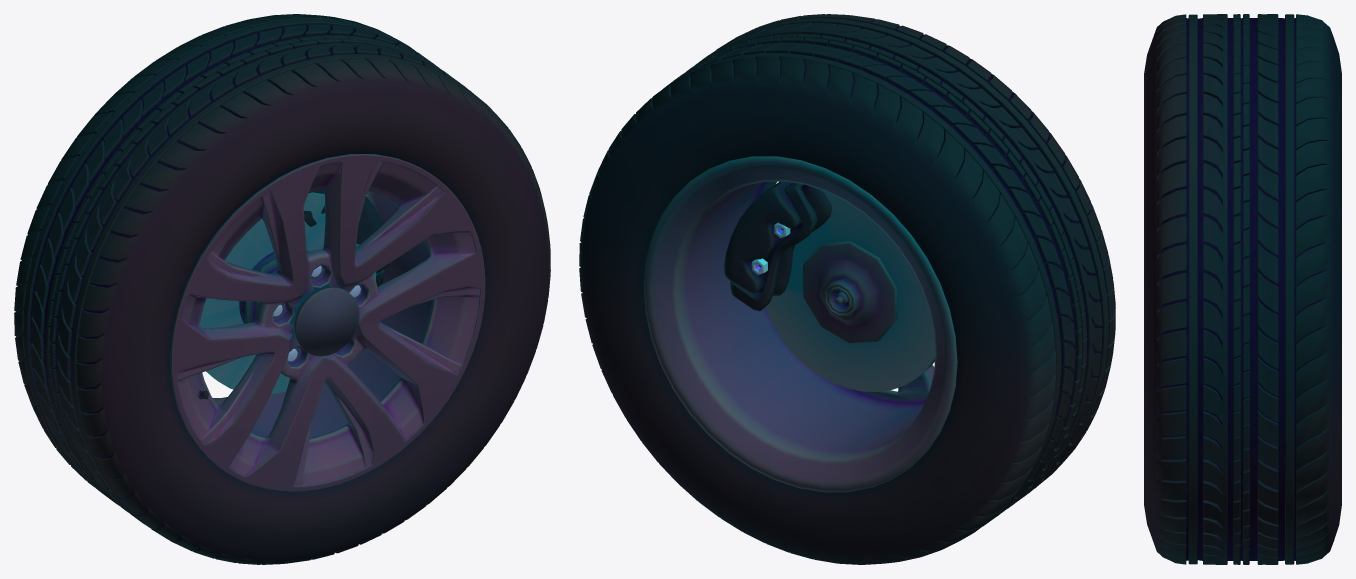
The model's file is wheel_FL.glb.
3 renders of one model, left to right at view 1: azimuth 30°, elevation 25°; view 2: azimuth 150°, elevation 25°; view 3: azimuth 270°, elevation 25°, orthographic.
Visible parts, largest first — view 1: tire_17, rim_second_19, rim_15, brakedisk_16, Blank hub cap, black_11; view 2: tire_17, rim_second_19, brakedisk_16, black_11, rim_15; view 3: tire_17.
Part boxes in pixels (x1,y1,x2,y2): tire_17: [14, 14, 550, 564]; rim_second_19: [170, 154, 480, 486]; rim_15: [171, 154, 485, 491]; brakedisk_16: [200, 192, 376, 394]; Blank hub cap: [294, 287, 359, 356]; black_11: [304, 190, 388, 286]; tire_17: [579, 14, 1115, 564]; rim_second_19: [643, 156, 957, 492]; brakedisk_16: [765, 190, 935, 391]; black_11: [724, 181, 832, 311]; rim_15: [803, 241, 934, 367]; tire_17: [1144, 14, 1341, 564].
Size of the model in its own units: 0.793 by 0.793 by 0.2847.
